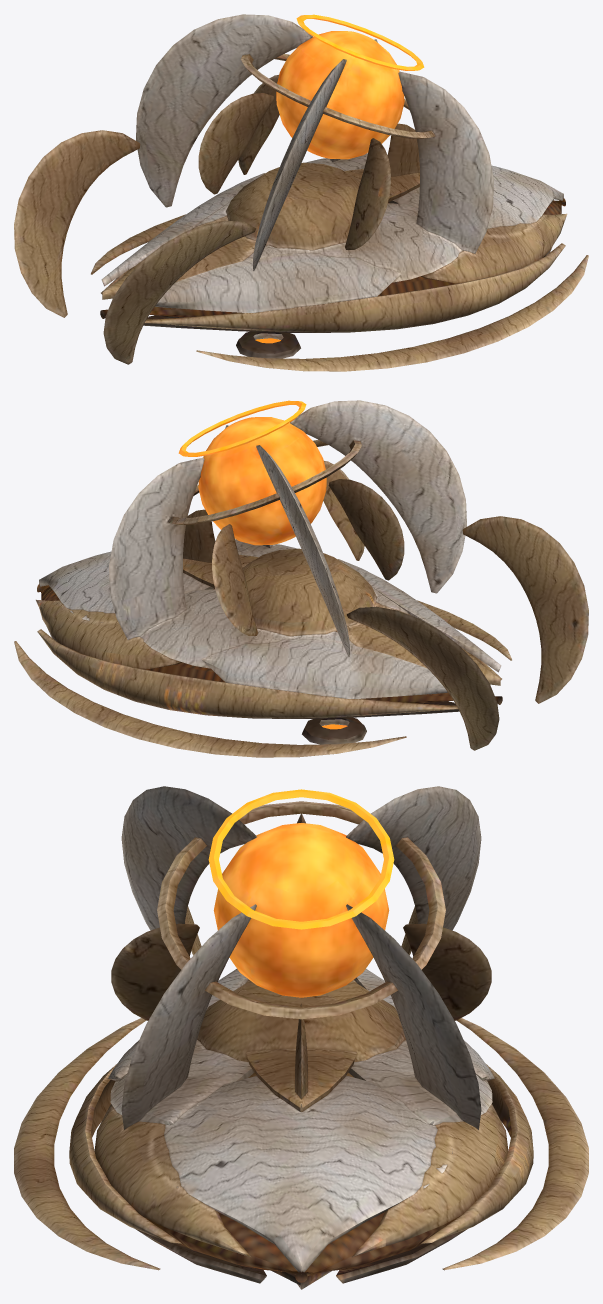
File: mortar_beast.glb
3 views of the same model, one above another, from view 1: azimuth 30°, elevation 25°; view 2: azimuth 150°, elevation 25°; view 3: azimuth 270°, elevation 25° (orthographic). The views are drawn at different scales.
Visible parts, largest first — view 1: Hull, Turret; view 2: Hull, Turret; view 3: Hull, Turret.
Part boxes in pixels (x1,y1,x2,y2): Hull: [14, 130, 588, 371]; Turret: [136, 14, 493, 270]; Hull: [14, 516, 588, 757]; Turret: [109, 400, 466, 656]; Hull: [14, 906, 588, 1289]; Turret: [111, 786, 491, 1129].
Bounding box in the file's own units: 7.64 × 4.11 × 5.57.
Materials: 1 (1 with a texture image).
